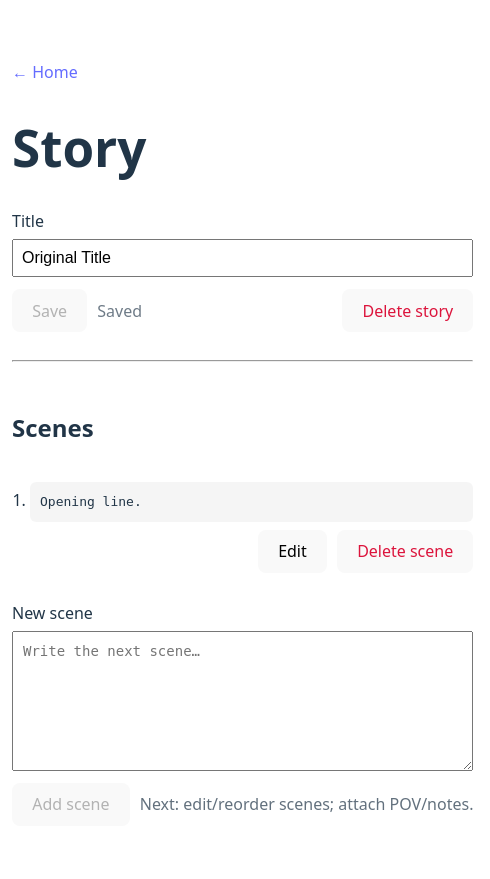
Test: edits and saves a scene
Expected: the text "Opening line." is shown, [30,482,473,522]
Click the button "Edit": click(292, 551) [258,530,327,573]
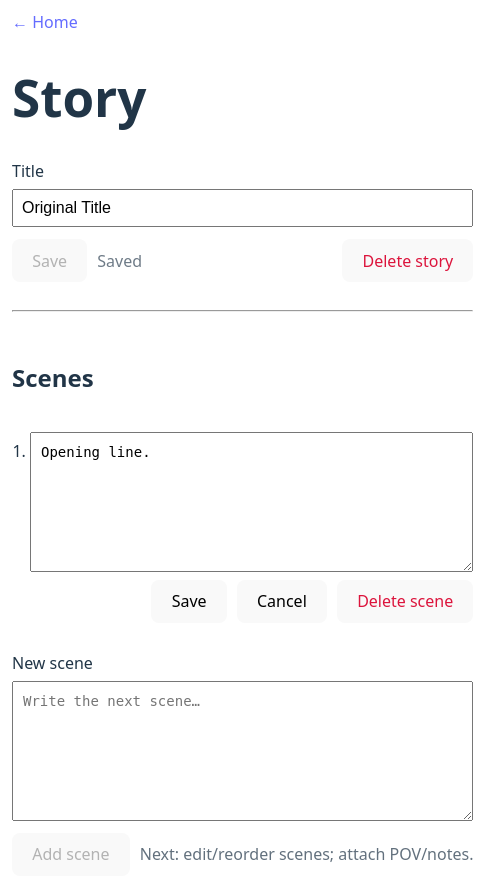
Replace the text in the text box showing "Opening line." with "Revised line.": (252, 502) [30,432,473,572]
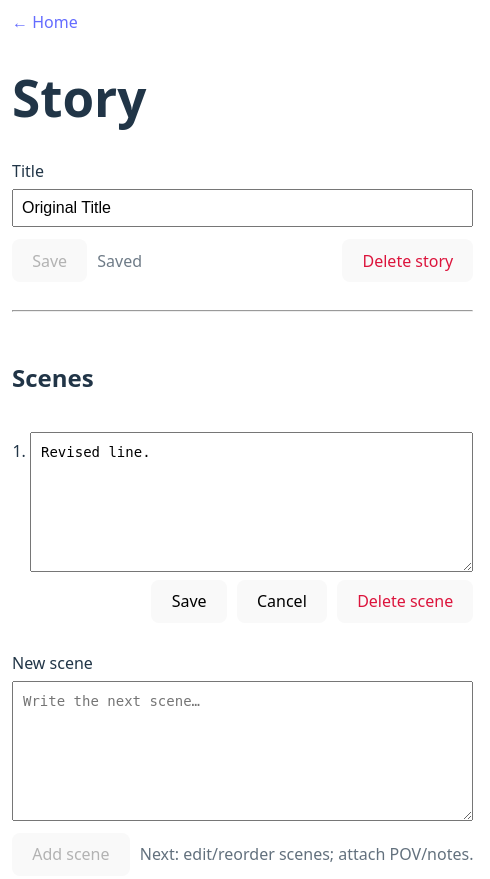
Click the 2nd button "Save": click(189, 601) [152,580,227,623]
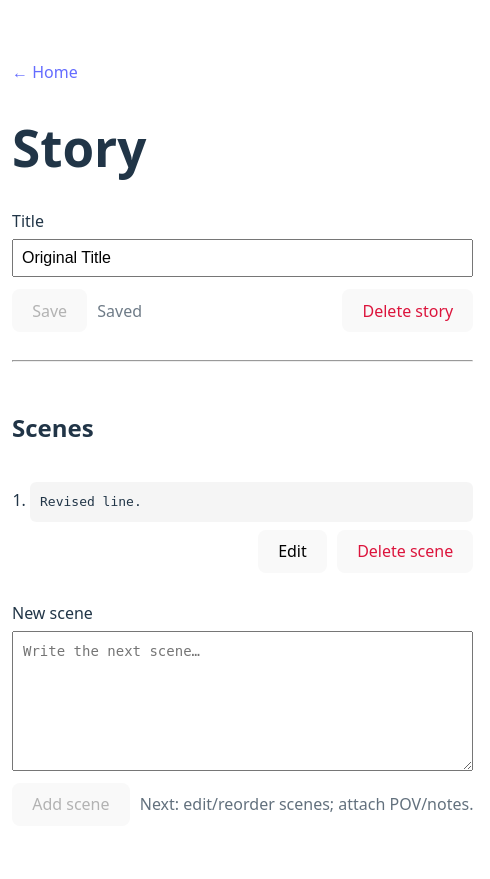
Expected: the text "Revised line." is shown, [30,482,473,522]
